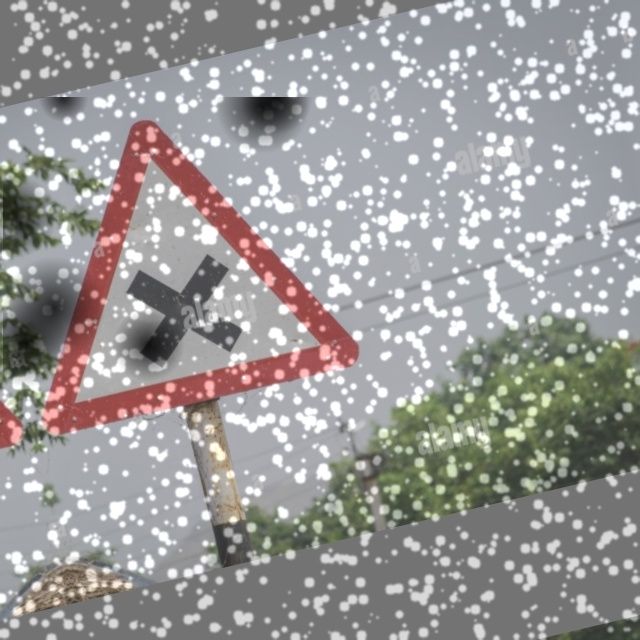Cross_Road: (3, 97, 361, 432)
